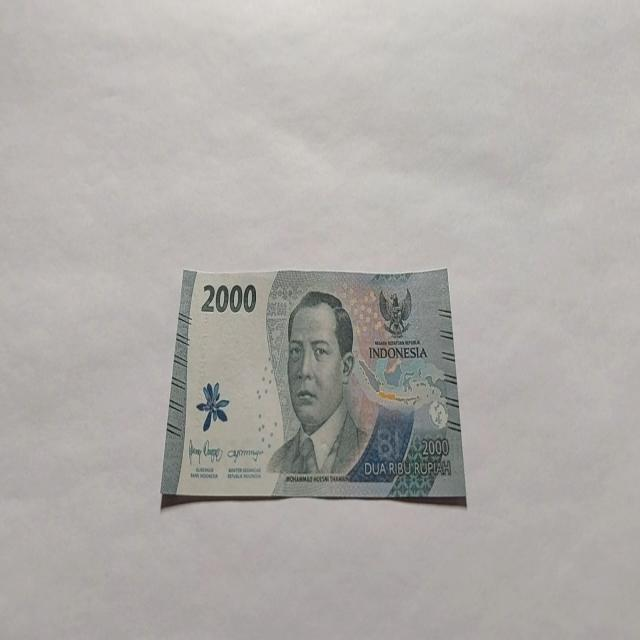dua ribu rupiah: (160, 264, 466, 508), (266, 288, 370, 478)
